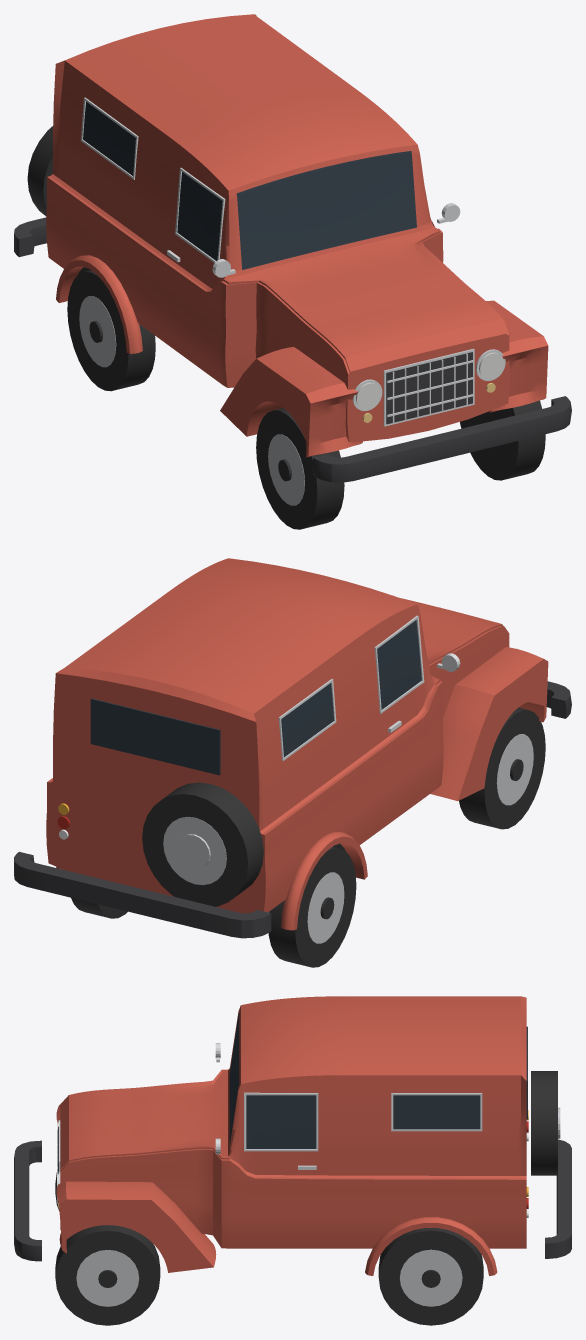
3 views of the same model, one above another, from view 1: azimuth 30°, elevation 25°; view 2: azimuth 150°, elevation 25°; view 3: azimuth 270°, elevation 25° (orthographic). The views are drawn at different scales.
Visible parts, largest first — view 1: paint, glass, trim, wheel_fr, wheel_rr, wheel_fl, headlights; view 2: paint, trim, wheel_rr, wheel_fr, glass_tail, glass, wheel_rl; view 3: paint, trim, wheel_fl, wheel_rl, glass.
Boxes of the visible parts, left/top/right/bottom form: paint: left=46, top=14, right=548, bottom=457; glass: left=83, top=101, right=416, bottom=269; trim: left=14, top=97, right=571, bottom=482; wheel_fr: left=256, top=408, right=344, bottom=529; wheel_rr: left=67, top=270, right=155, bottom=391; wheel_fl: left=460, top=400, right=545, bottom=480; headlights: left=356, top=352, right=504, bottom=409; paint: left=46, top=558, right=548, bottom=930; trim: left=14, top=615, right=571, bottom=938; wheel_rr: left=268, top=847, right=356, bottom=967; wheel_fr: left=459, top=707, right=545, bottom=829; glass_tail: left=90, top=698, right=220, bottom=775; glass: left=281, top=620, right=421, bottom=757; wheel_rl: left=71, top=897, right=127, bottom=918; paint: left=56, top=996, right=526, bottom=1275; trim: left=14, top=1071, right=571, bottom=1261; wheel_fl: left=55, top=1225, right=160, bottom=1325; wheel_rl: left=378, top=1228, right=483, bottom=1325; glass: left=229, top=1012, right=480, bottom=1148.
Size of the model in its own units: 1.78 by 1.95 by 3.94.
